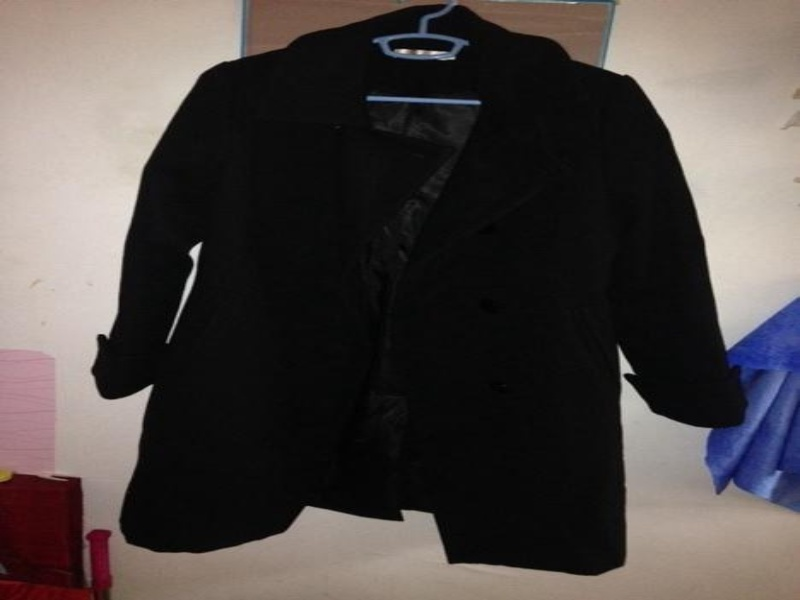long_sleeved_outwear: (79, 1, 757, 583)
